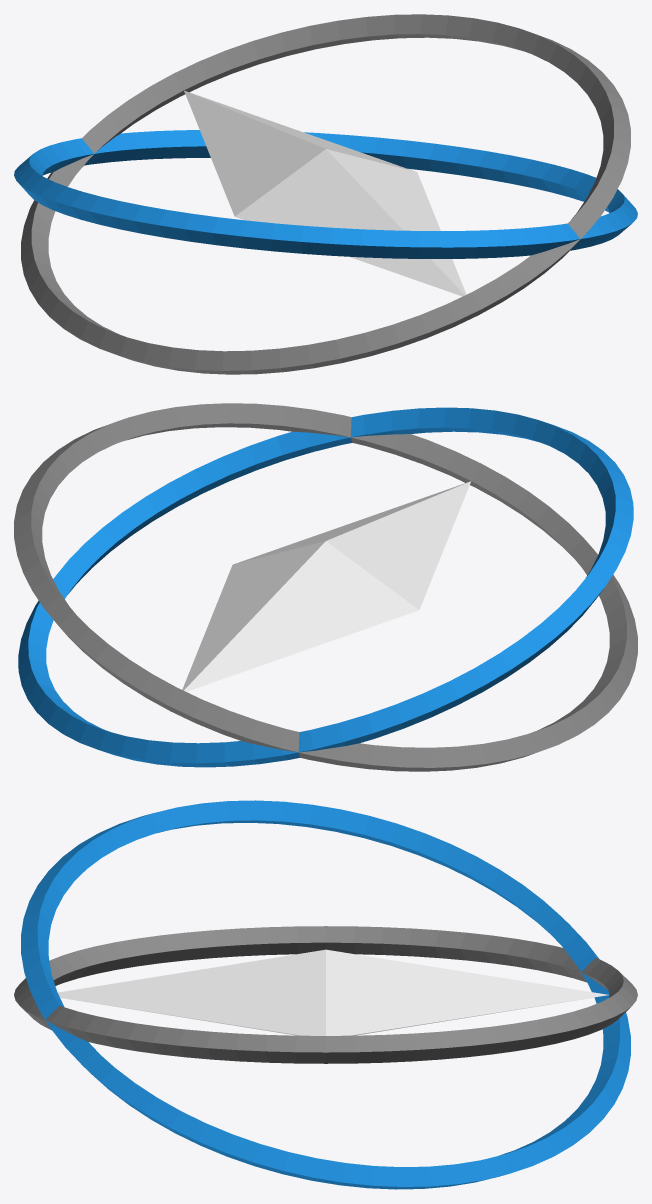
Rendered from commpassV2.fbx.
3 renders of one model, top to bottom at view 1: azimuth 30°, elevation 25°; view 2: azimuth 150°, elevation 25°; view 3: azimuth 270°, elevation 25°, orthographic. The views are drawn at different scales.
Parts seen in each view (by area): view 1: トーラス.002, トーラス.001, 円錐, 円錐.001; view 2: トーラス.002, トーラス.001, 円錐.001, 円錐; view 3: トーラス.001, トーラス.002, 円錐.001, 円錐.
Part boxes in pixels (<box>): トーラス.002: <box>21,14,630,374</box>; トーラス.001: <box>14,130,637,258</box>; 円錐: <box>235,149,466,296</box>; 円錐.001: <box>184,90,414,216</box>; トーラス.002: <box>14,403,637,771</box>; トーラス.001: <box>18,407,633,767</box>; 円錐.001: <box>182,541,418,691</box>; 円錐: <box>234,481,471,609</box>; トーラス.001: <box>21,800,630,1189</box>; トーラス.002: <box>14,926,637,1063</box>; 円錐.001: <box>326,949,608,1035</box>; 円錐: <box>58,949,325,1035</box>.
Size of the model in its own units: 432 by 137 by 440.
